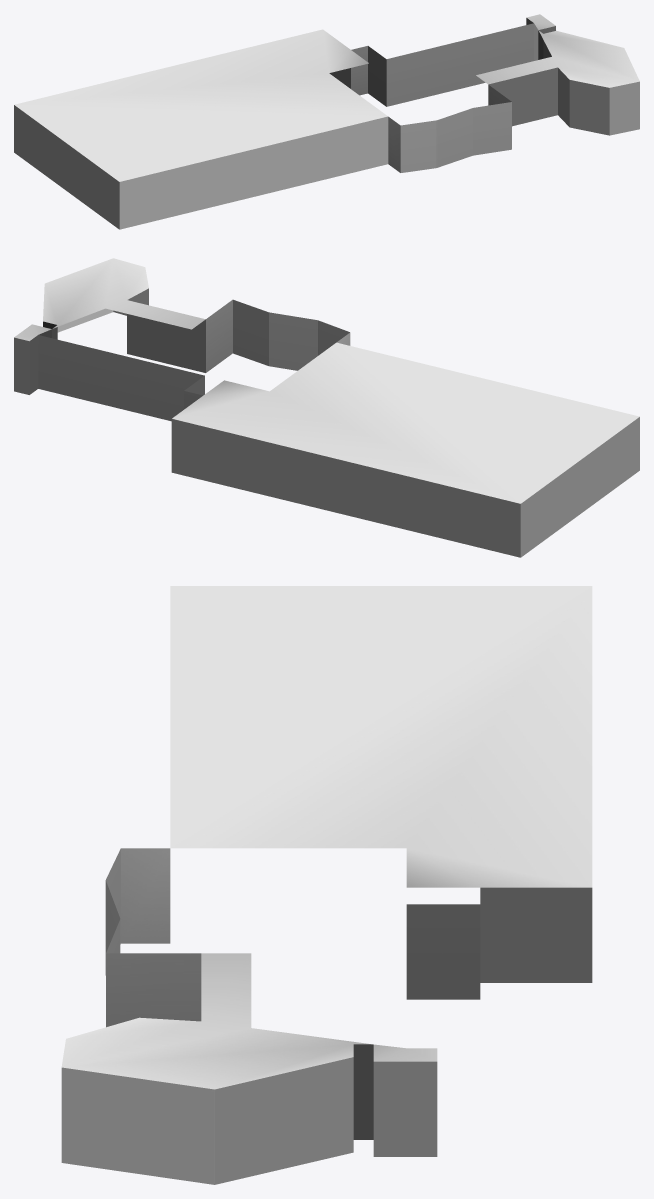
The model's file is etageV1.1No1.dae.
3 views of the same model, one above another, from view 1: azimuth 30°, elevation 25°; view 2: azimuth 150°, elevation 25°; view 3: azimuth 270°, elevation 25° (orthographic). The views are drawn at different scales.
Parts seen in each view (by area): view 1: Mesh_004; view 2: Mesh_004; view 3: Mesh_004.
Boxes of the visible parts, x1,y1,x2,y2 form: Mesh_004: [14, 14, 639, 229]; Mesh_004: [14, 258, 639, 557]; Mesh_004: [61, 586, 592, 1184].
Bounding box in the file's own units: 49.27 × 21.95 × 4.36.
3 materials, 3 textured.
